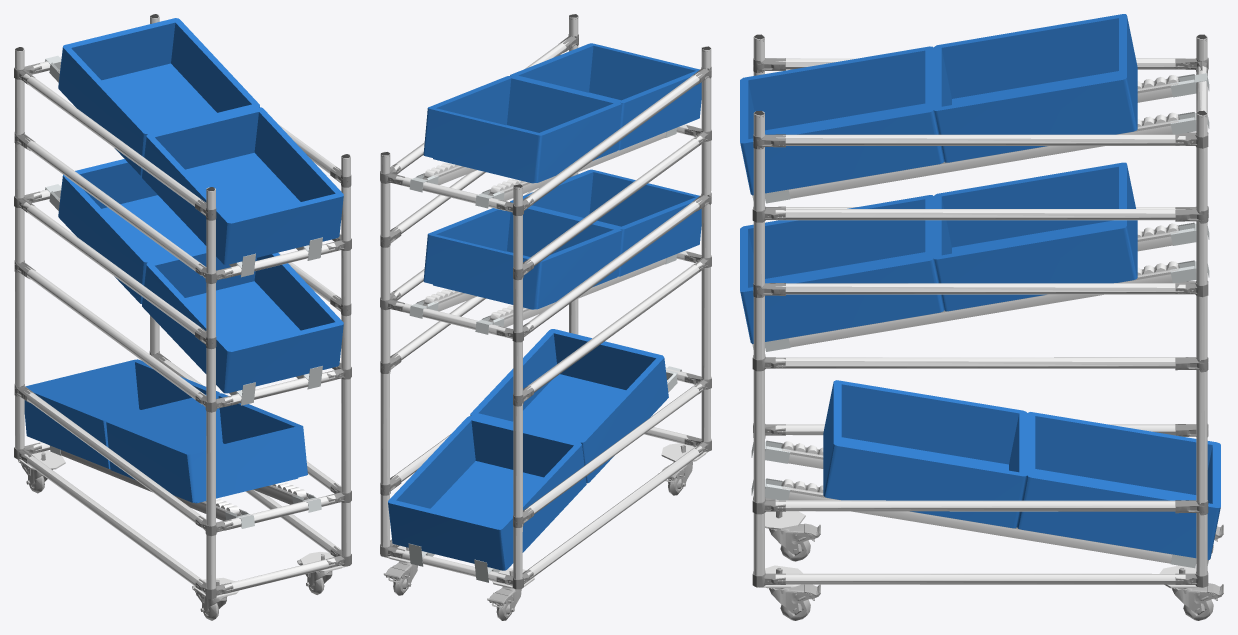
File: rack-sliding.glb
3 views of the same model, side by side, from view 1: azimuth 30°, elevation 25°; view 2: azimuth 150°, elevation 25°; view 3: azimuth 270°, elevation 25° (orthographic). The views are drawn at different scales.
Parts seen in each view (by area): view 1: part_005, part_000, part_002, part_003, part_004, part_006; view 2: part_005, part_000, part_002, part_004, part_003, part_006; view 3: part_005, part_000, part_004, part_002, part_003, part_006.
Part boxes in pixels (x1=…): part_005: x1=24, y1=18, x2=343, y2=503; part_000: x1=15, y1=14, x2=350, y2=599; part_002: x1=14, y1=63, x2=351, y2=599; part_003: x1=45, y1=55, x2=322, y2=528; part_004: x1=58, y1=70, x2=308, y2=520; part_006: x1=18, y1=452, x2=332, y2=620; part_005: x1=388, y1=43, x2=701, y2=570; part_000: x1=380, y1=14, x2=711, y2=588; part_002: x1=380, y1=34, x2=711, y2=589; part_004: x1=422, y1=132, x2=669, y2=382; part_003: x1=408, y1=127, x2=681, y2=582; part_006: x1=383, y1=445, x2=692, y2=620; part_005: x1=740, y1=14, x2=1220, y2=559; part_000: x1=753, y1=35, x2=1207, y2=588; part_004: x1=781, y1=75, x2=1179, y2=563; part_002: x1=752, y1=58, x2=1208, y2=587; part_003: x1=751, y1=73, x2=1209, y2=568; part_006: x1=768, y1=511, x2=1223, y2=620.
Bounding box in the file's own units: 0.4726 × 1.47 × 1.18.
